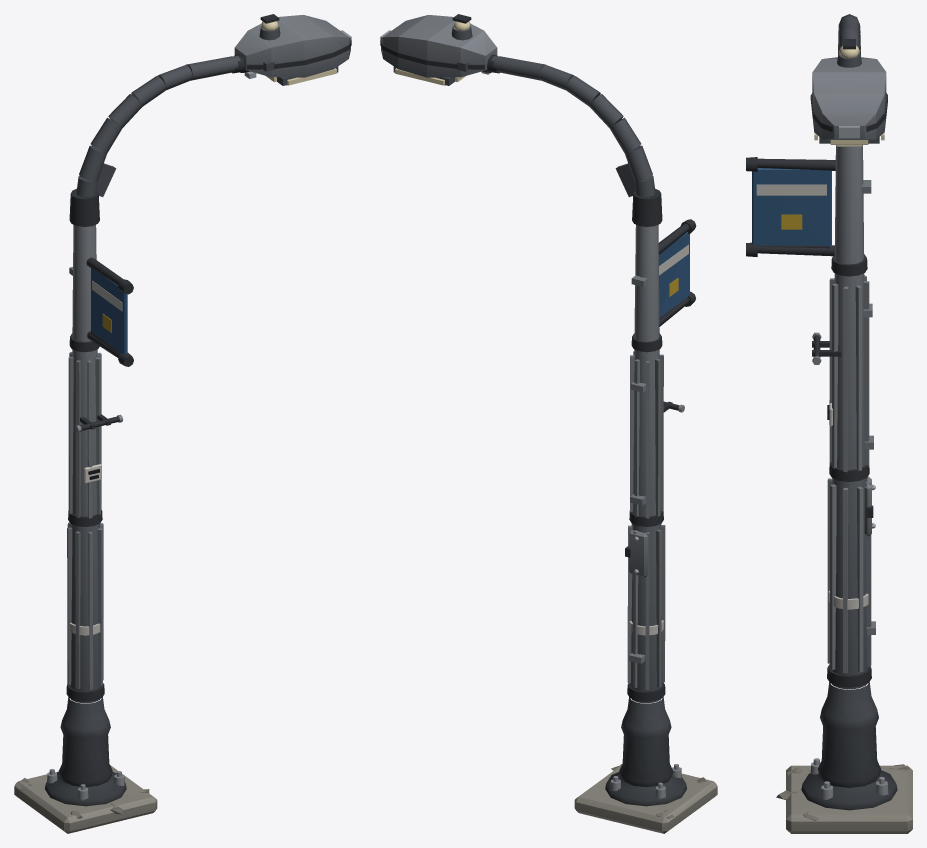
Rendered from street-lamp-01.glb.
3 views of the same model, side by side, from view 1: azimuth 30°, elevation 25°; view 2: azimuth 150°, elevation 25°; view 3: azimuth 270°, elevation 25° (orthographic). The views are drawn at different scales.
Parts seen in each view (by area): view 1: street_lamp_01; view 2: street_lamp_01; view 3: street_lamp_01.
Boxes of the visible parts, left/top/right/bottom form: street_lamp_01: left=14, top=14, right=351, bottom=833; street_lamp_01: left=380, top=14, right=717, bottom=833; street_lamp_01: left=746, top=14, right=912, bottom=833.
Bounding box in the file's own units: 1.78 × 4.1 × 0.7099.
